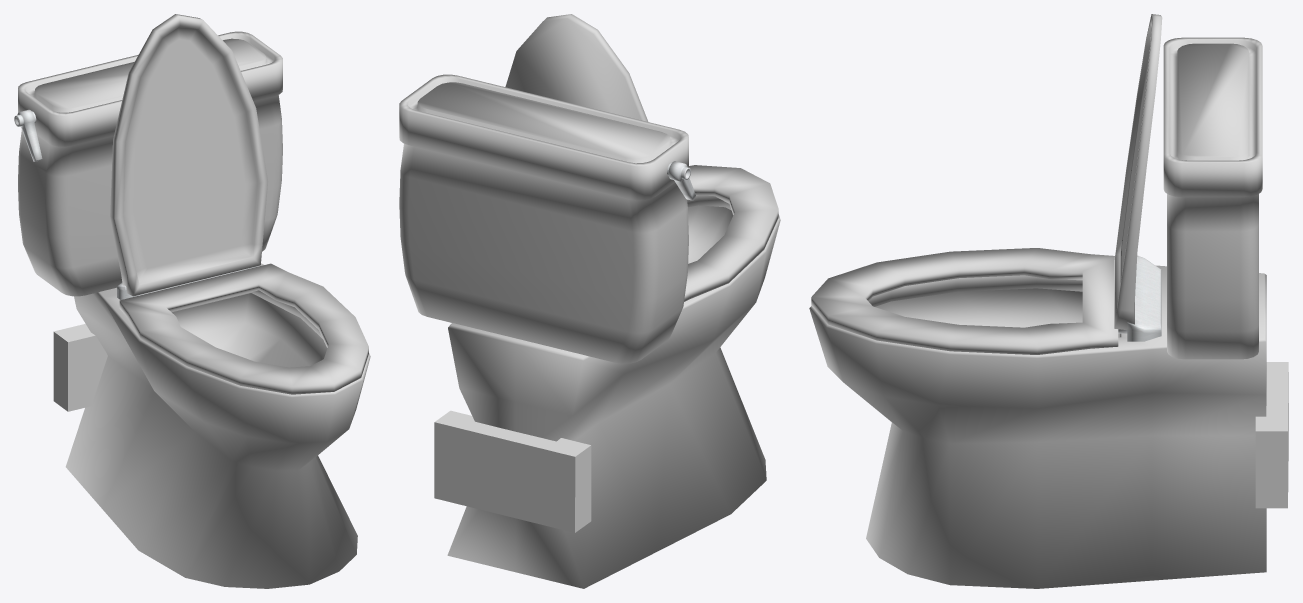
The model's file is toilet_seat.glb.
3 renders of one model, left to right at view 1: azimuth 30°, elevation 25°; view 2: azimuth 150°, elevation 25°; view 3: azimuth 270°, elevation 25°, orthographic. The views are drawn at different scales.
Visible parts, largest first — view 1: Toilet Seat, Circle.002, Plane, Circle.001, Cube.012, Circle.003; view 2: Plane, Toilet Seat, Cube.012, Circle.002, Circle.001, Circle.003; view 3: Toilet Seat, Plane, Circle.001, Circle.002, Cube.012, Cube.011.
Part boxes in pixels (x1,y1,x2,y2): Toilet Seat: (65, 263, 370, 588); Circle.002: (110, 14, 268, 296); Plane: (18, 31, 282, 296); Circle.001: (119, 263, 368, 394); Cube.012: (53, 324, 107, 411); Circle.003: (14, 109, 42, 161); Plane: (399, 74, 688, 363); Toilet Seat: (447, 195, 780, 588); Cube.012: (434, 410, 591, 532); Circle.002: (505, 14, 648, 121); Circle.001: (684, 165, 778, 301); Circle.003: (667, 161, 695, 200); Toilet Seat: (809, 265, 1266, 588); Plane: (1163, 37, 1262, 359); Circle.001: (811, 248, 1118, 354); Circle.002: (1114, 14, 1162, 330); Cube.012: (1255, 362, 1288, 508); Cube.011: (1118, 255, 1161, 341).
Size of the model in its own units: 0.4947 by 0.8934 by 0.7433.
Materials: 3 (2 with a texture image).
